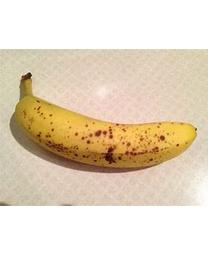banana: (11, 73, 197, 171)
